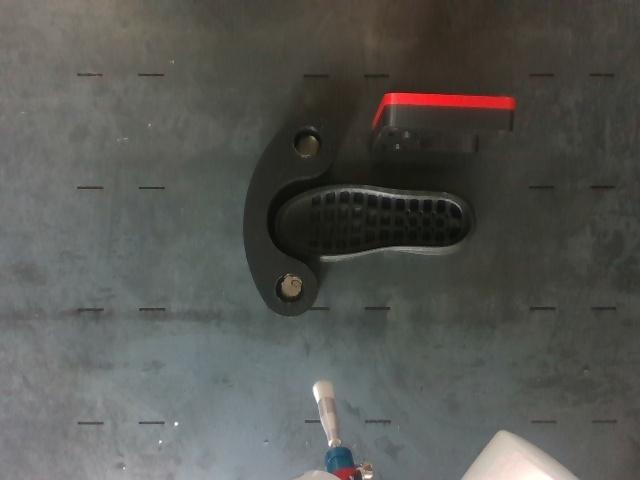shoes: (282, 189, 467, 256)
